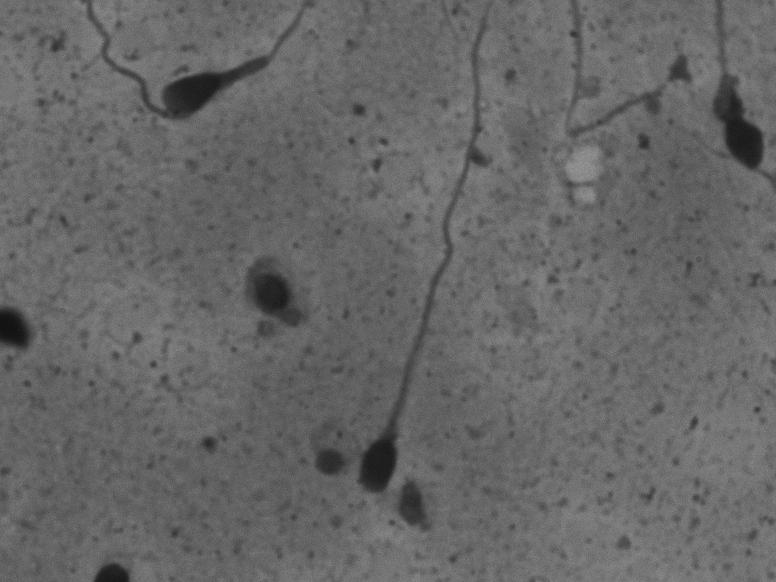Abnormal: (344, 8, 509, 503), (61, 13, 307, 146)
